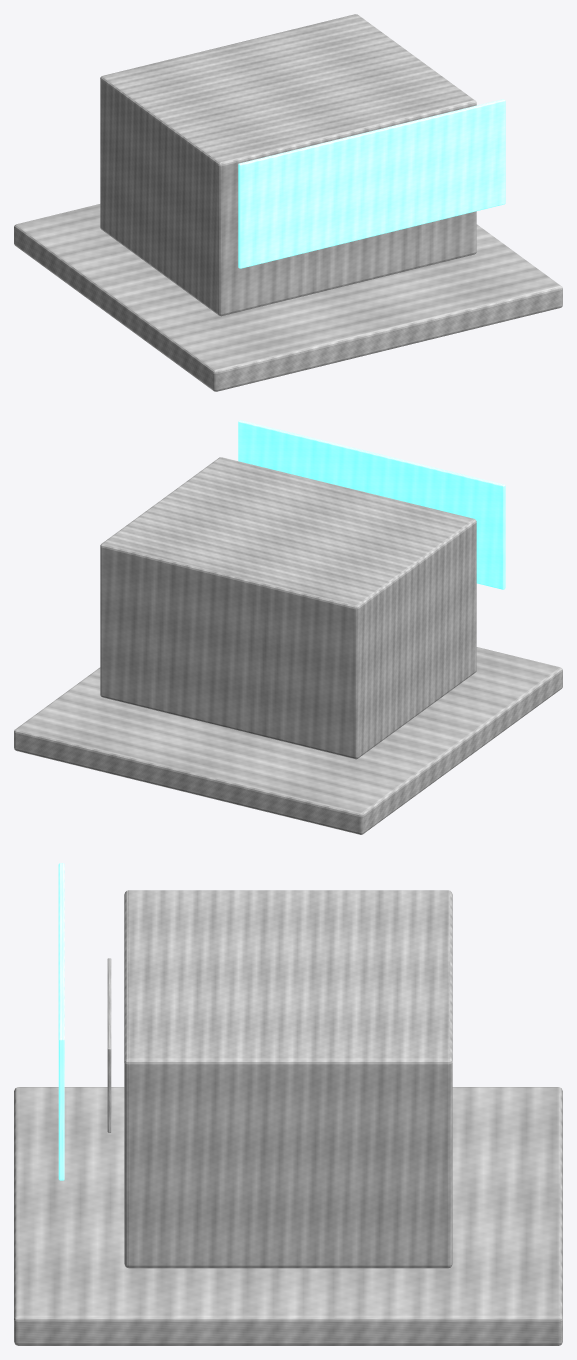
The model's file is signs_variant_a.glb.
The picture shows the model from 3 angles, top to bottom: view 1: azimuth 30°, elevation 25°; view 2: azimuth 150°, elevation 25°; view 3: azimuth 270°, elevation 25°; orthographic projection. The views are drawn at different scales.
Visible parts, largest first — view 1: Fixture housing, Foundation, Display panel; view 2: Fixture housing, Foundation, Display panel; view 3: Fixture housing, Foundation, Display panel, Control face.001.
Boxes of the visible parts, left/top/right/bottom form: Fixture housing: left=100, top=14, right=476, bottom=316; Foundation: left=14, top=204, right=562, bottom=391; Display panel: left=238, top=99, right=505, bottom=268; Fixture housing: left=100, top=457, right=476, bottom=759; Foundation: left=14, top=647, right=562, bottom=834; Display panel: left=238, top=420, right=505, bottom=589; Fixture housing: left=124, top=890, right=452, bottom=1268; Foundation: left=14, top=1087, right=562, bottom=1345; Display panel: left=58, top=863, right=64, bottom=1180; Control face.001: left=107, top=958, right=111, bottom=1132.
Size of what is drawn, in the model's own units: 7.36 by 4.15 by 7.36.
Materials: 5 (5 with a texture image).
